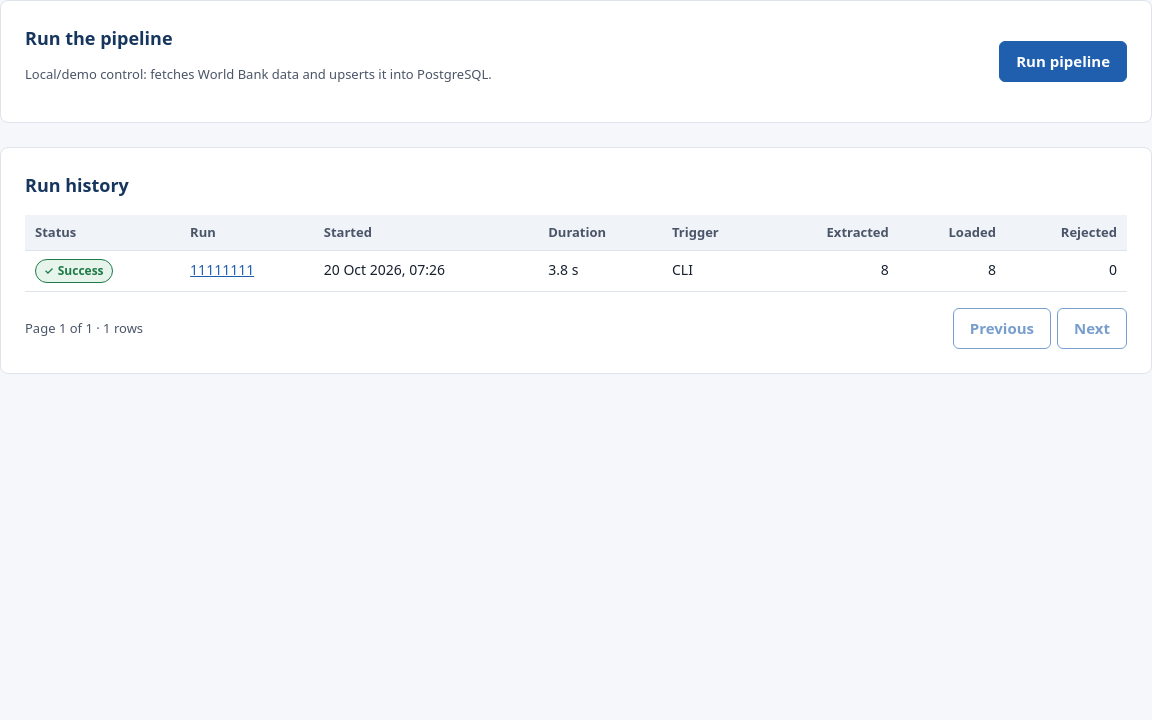
Test case: RunsPage › explains when manual runs are disabled (403)
Expected: the heading "Run history" is shown, [25,172,129,196]
Click the button "Run pipeline" at (1063, 61), box [999,41,1127,82]
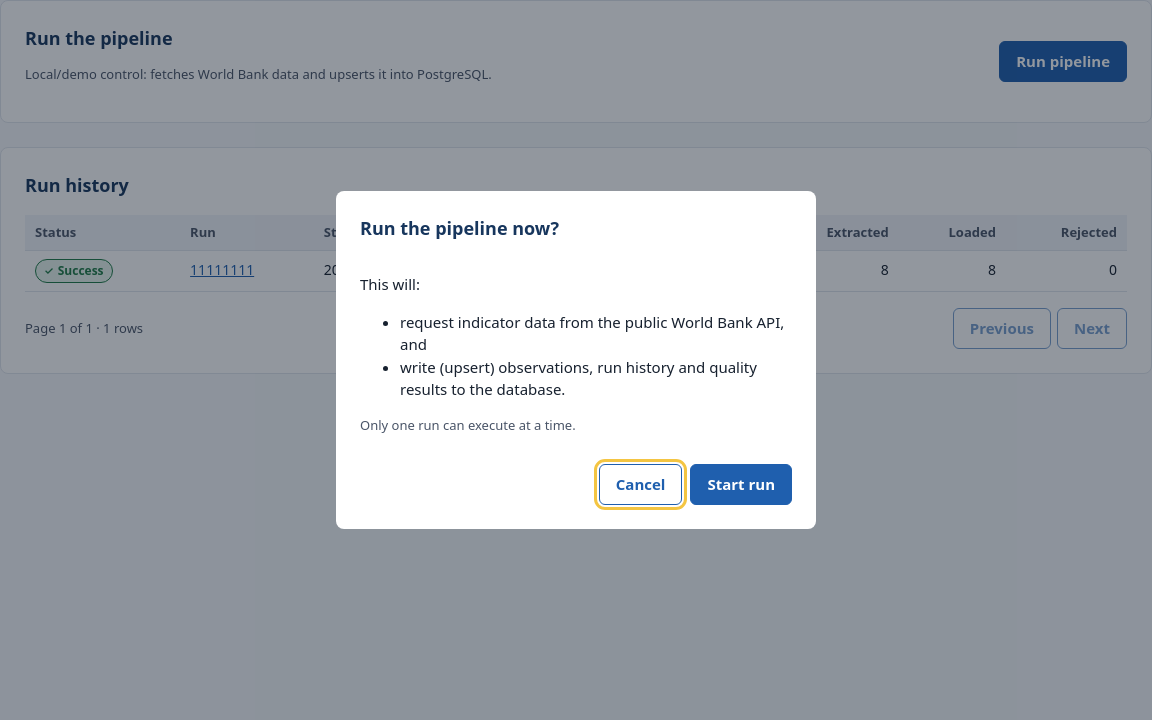
Click the button "Start run" at (741, 485), box [690,464,792,505]
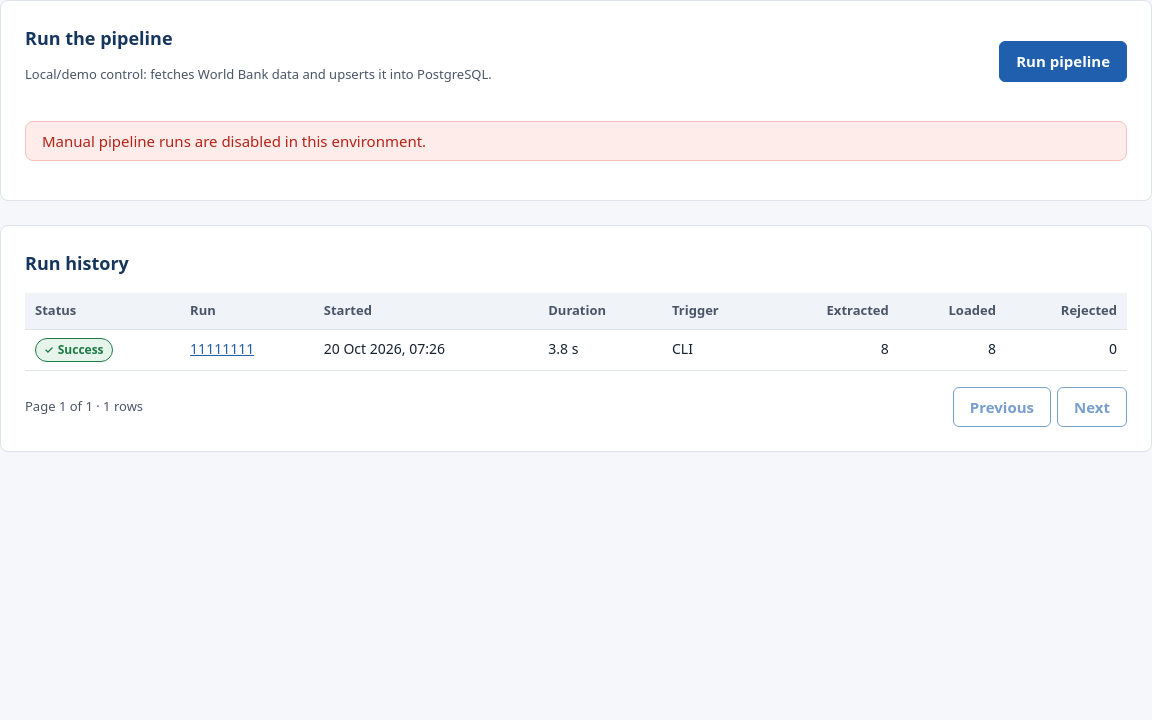
Expected: the message reads "Manual pipeline runs are disabled in this environment.", [42,130,426,150]
